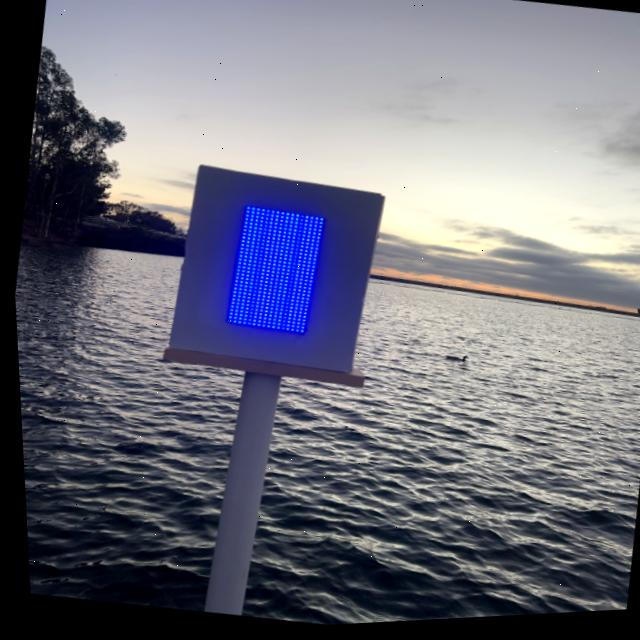led: (183, 172, 370, 384)
